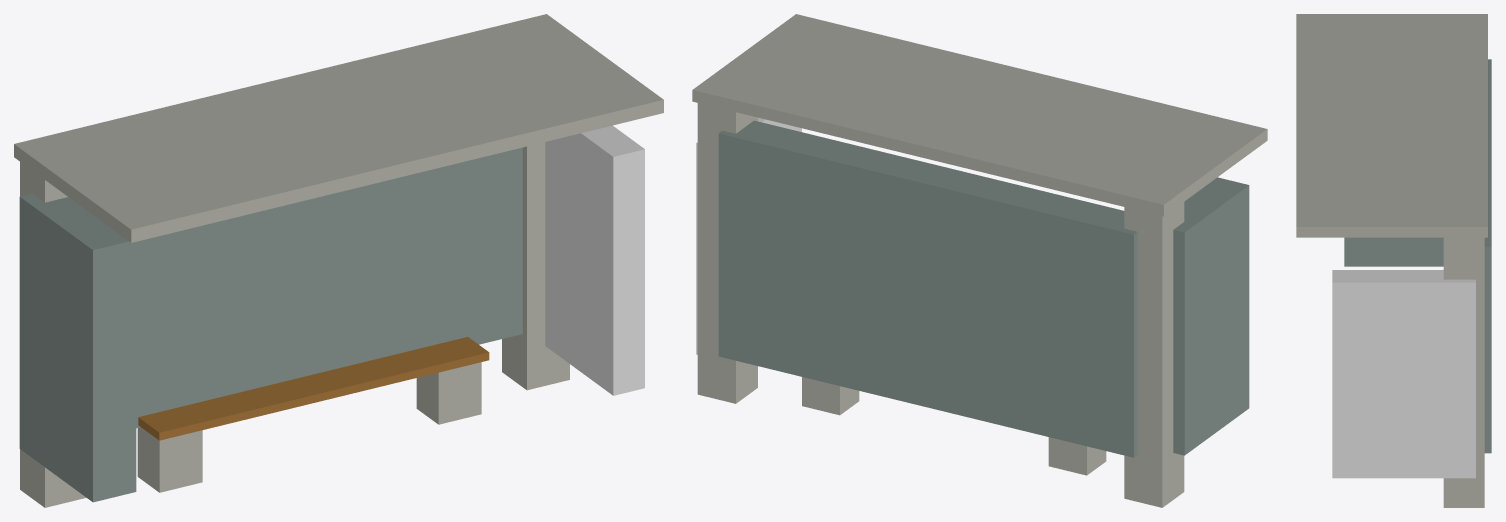
File: SM_ParadaBus_v2_Anuncio_LOD1.fbx
3 views of the same model, side by side, from view 1: azimuth 30°, elevation 25°; view 2: azimuth 150°, elevation 25°; view 3: azimuth 270°, elevation 25° (orthographic). The views are drawn at different scales.
Visible parts, largest first — view 1: SM_urbano_extra_v7_LOD1; view 2: SM_urbano_extra_v7_LOD1; view 3: SM_urbano_extra_v7_LOD1.
Part boxes in pixels (x1=…): SM_urbano_extra_v7_LOD1: x1=14, y1=14, x2=663, y2=507; SM_urbano_extra_v7_LOD1: x1=692, y1=14, x2=1267, y2=507; SM_urbano_extra_v7_LOD1: x1=1296, y1=14, x2=1491, y2=507.
Bounding box in the file's own units: 4.3 × 2.6 × 1.63.
